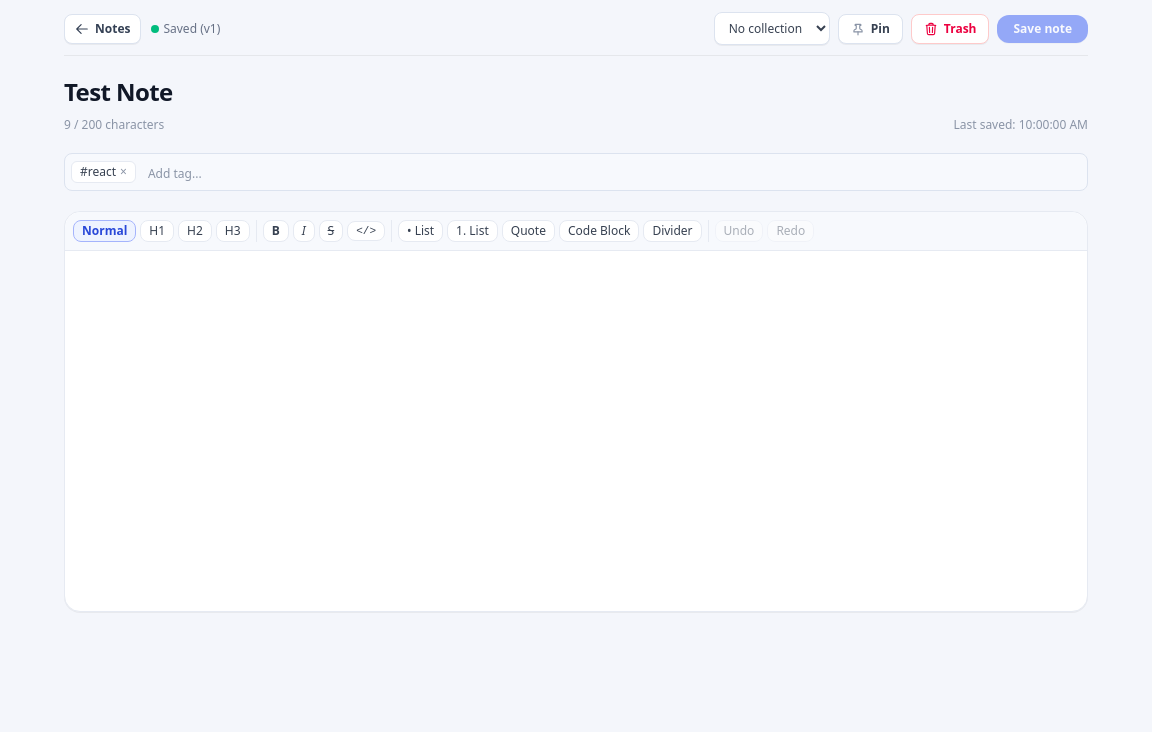
Test: Tags Feature Frontend Test Suite › 4. NoteEditorPage Tag Input & Editing › removing a tag marks the note dirty and updates save state
Check: the text "#react" is shown, box [80, 164, 116, 180]
Click the button named "Remove tag react": click(124, 172) [120, 164, 127, 180]
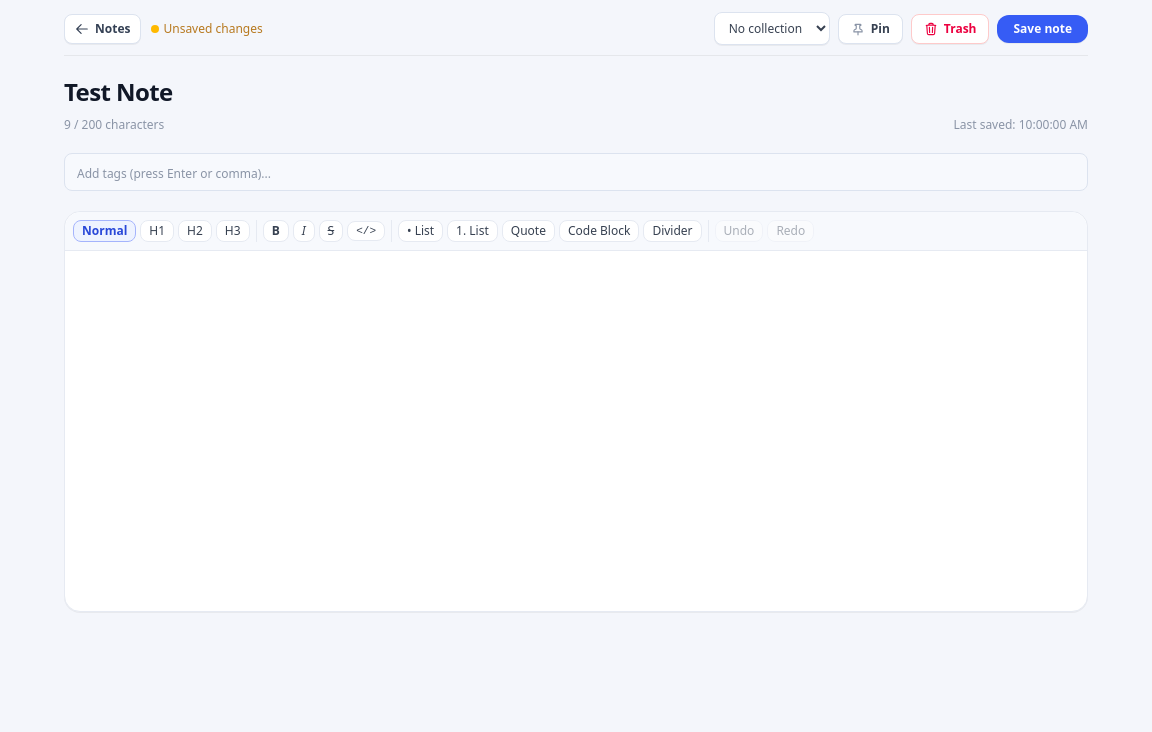
Check: the text "#react" is gone
Check: the button "Save note" is enabled, box [998, 14, 1088, 42]
